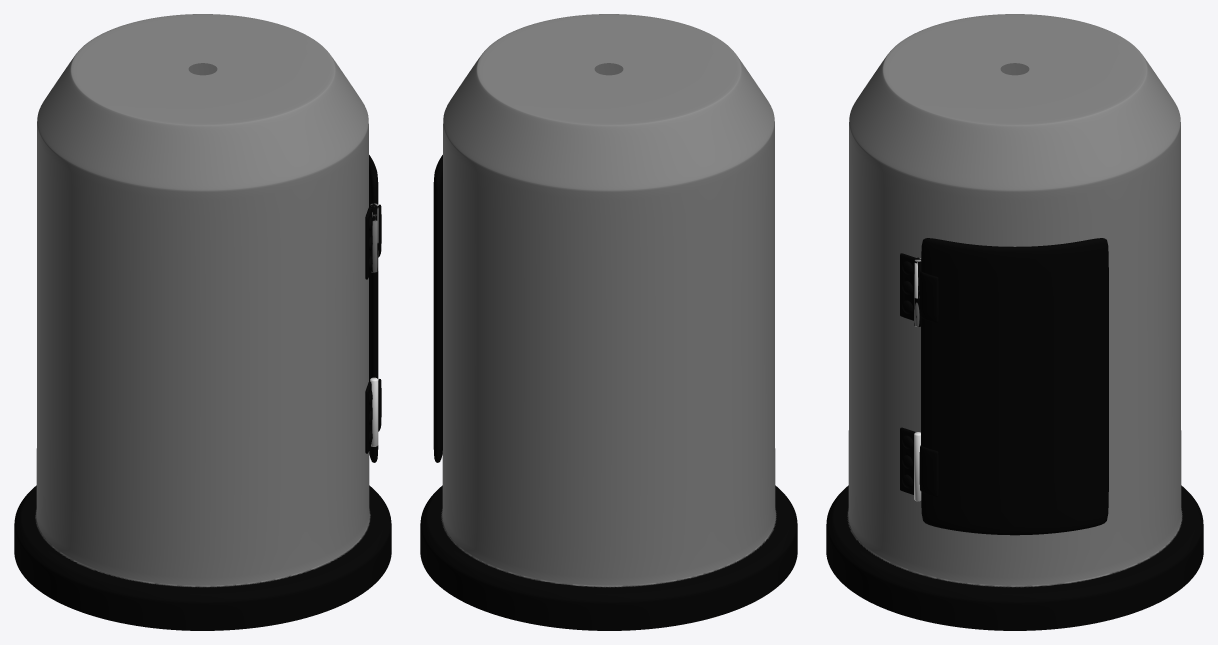
The model's file is traffic_light_remake.fbx.
The picture shows the model from 3 angles, left to right: view 1: azimuth 30°, elevation 25°; view 2: azimuth 150°, elevation 25°; view 3: azimuth 270°, elevation 25°; orthographic projection.
Parts seen in each view (by area): view 1: Base, Door, door hinge 1, door hinge 2; view 2: Base, Door; view 3: Base, Door, door hinge 1, door hinge 2.
Part boxes in pixels (x1,y1,x2,y2): Base: [14, 14, 391, 630]; Door: [369, 155, 378, 462]; door hinge 1: [365, 203, 381, 279]; door hinge 2: [365, 377, 381, 453]; Base: [420, 14, 797, 630]; Door: [433, 155, 442, 462]; Base: [826, 14, 1203, 630]; Door: [921, 238, 1108, 535]; door hinge 1: [900, 253, 938, 327]; door hinge 2: [900, 427, 938, 501].
Size of the model in its own units: 199 by 280 by 199.
1 material, 1 textured.
